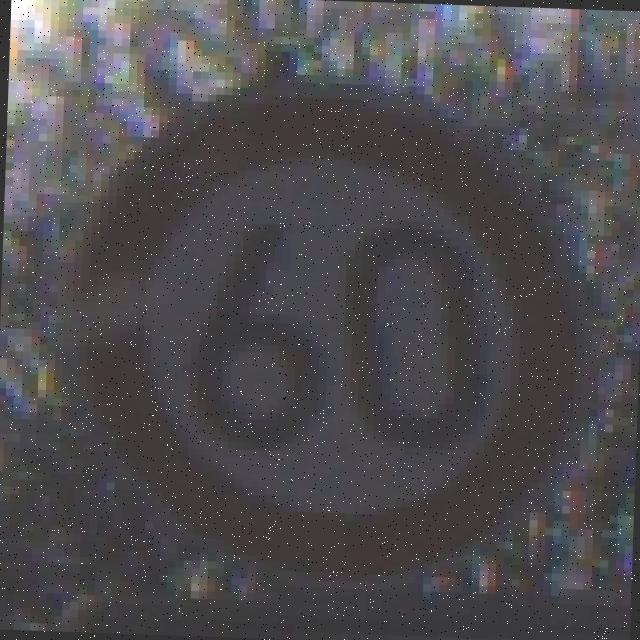Ograniczenie predkosci do 60: (67, 82, 590, 590)
